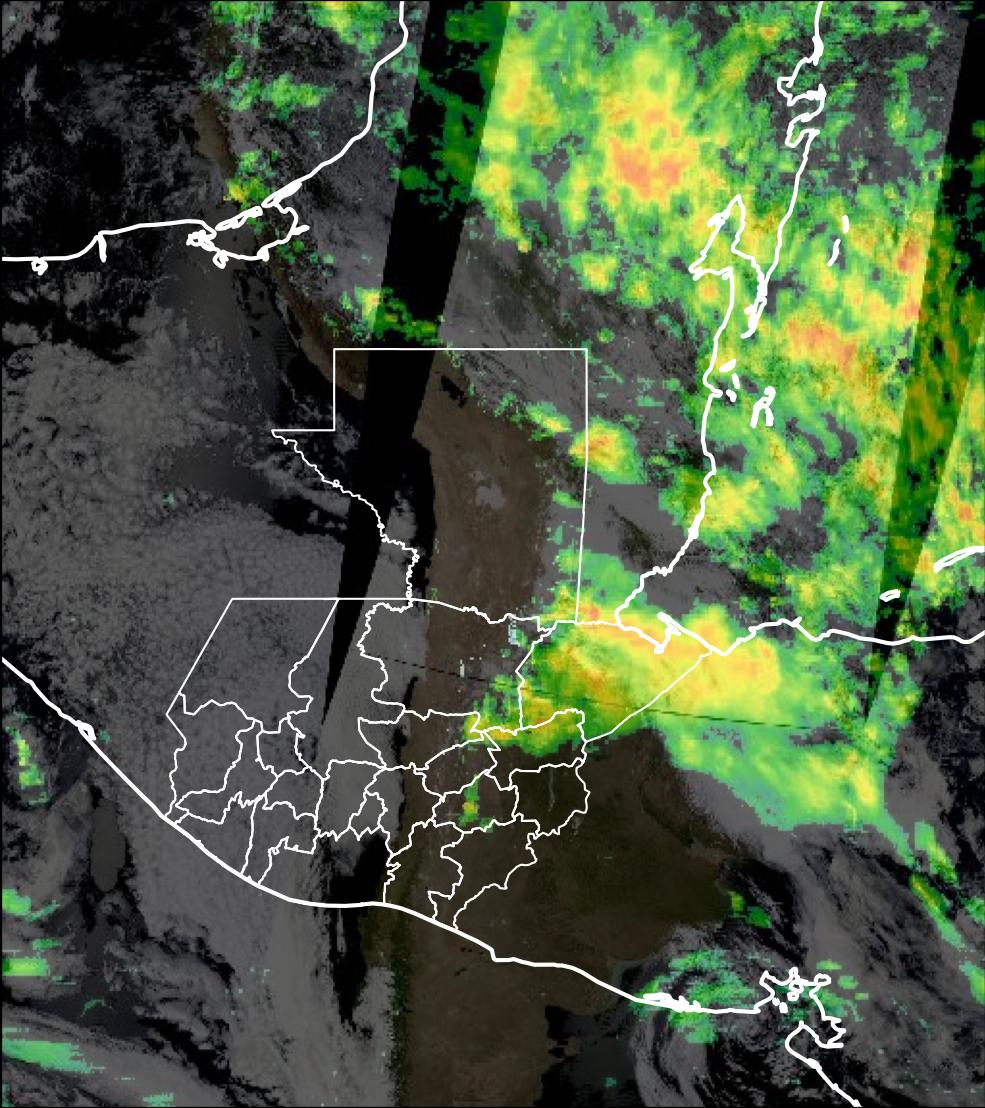precipitacion: (596, 89, 692, 206), (893, 227, 929, 337)
